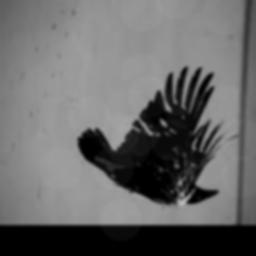Crow: (76, 66, 240, 206)
